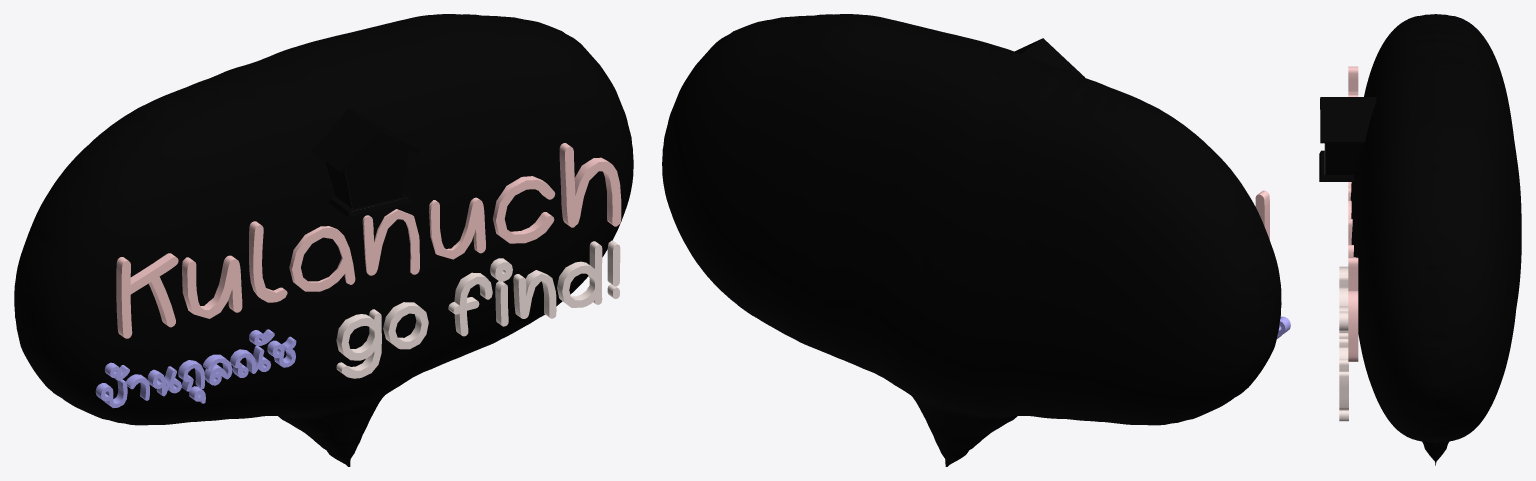
Rendered from textkulanuchgame.fbx.
The picture shows the model from 3 angles, left to right: view 1: azimuth 30°, elevation 25°; view 2: azimuth 150°, elevation 25°; view 3: azimuth 270°, elevation 25°; orthographic projection. The views are drawn at different scales.
Parts seen in each view (by area): view 1: root, node_id54, node_id72, node_id116, node_id134, node_id136, node_id138; view 2: root, node_id136; view 3: root, node_id136, node_id54, node_id72, node_id134, node_id138.
Part boxes in pixels (left/top/right/bottom): root: left=14, top=14, right=633, bottom=466; node_id54: left=116, top=143, right=621, bottom=338; node_id72: left=336, top=240, right=620, bottom=378; node_id116: left=95, top=329, right=296, bottom=408; node_id134: left=325, top=137, right=409, bottom=208; node_id136: left=312, top=109, right=420, bottom=172; node_id138: left=328, top=193, right=410, bottom=217; root: left=662, top=14, right=1281, bottom=466; node_id136: left=1014, top=38, right=1084, bottom=77; root: left=1350, top=14, right=1521, bottom=465; node_id136: left=1320, top=97, right=1376, bottom=143; node_id54: left=1348, top=66, right=1358, bottom=361; node_id72: left=1339, top=266, right=1348, bottom=421; node_id134: left=1324, top=143, right=1362, bottom=174; node_id138: left=1319, top=150, right=1354, bottom=181.
Size of the model in its own units: 1.92 by 1.29 by 0.6167.
Materials: 7 (5 with a texture image).
